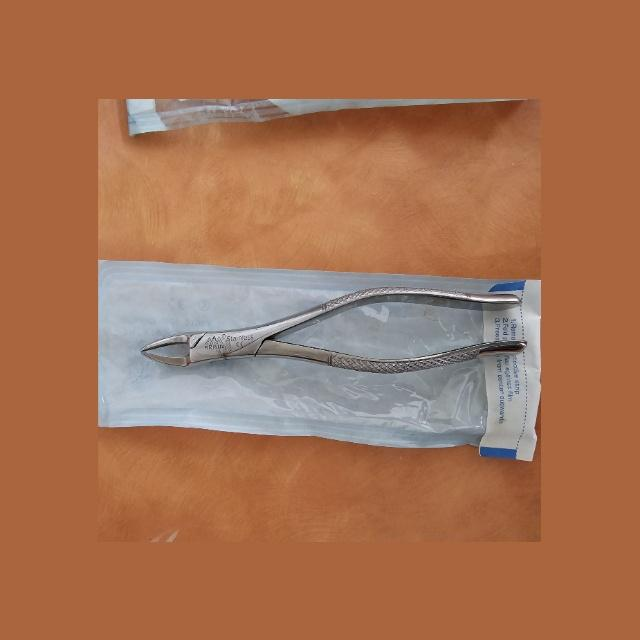forceps: (140, 287, 527, 374)
